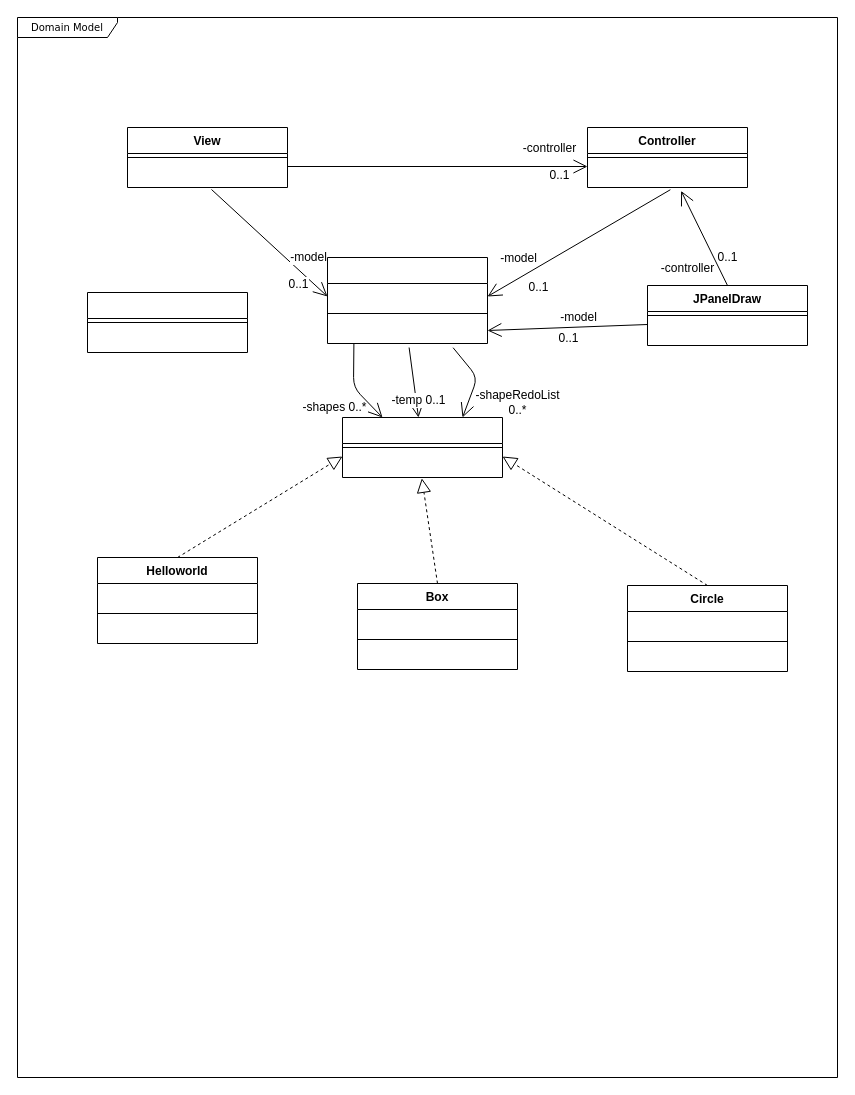
The diagram is 855 pixels wide and 1095 high, and some of its shapes have lost their labels. The shapes that lost their labels are listed below. From the top down, each one's box as (x1, y1, x2, y2) in pixels, then its label:
(326, 256, 488, 344): Model
(86, 292, 248, 352): Hw2
(342, 416, 502, 478): Shape
